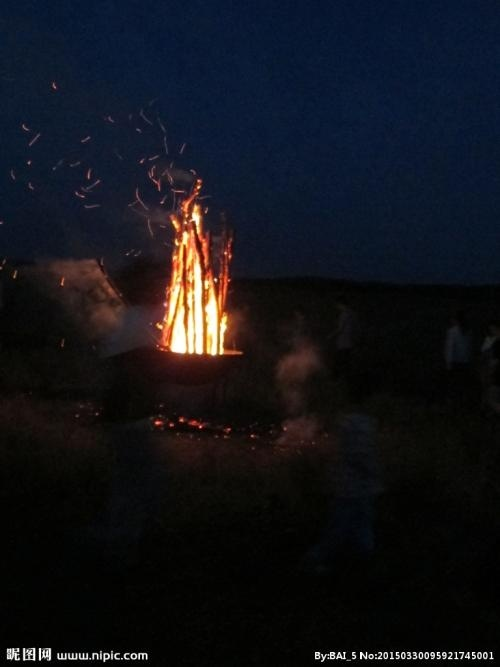fire: (162, 176, 234, 357)
